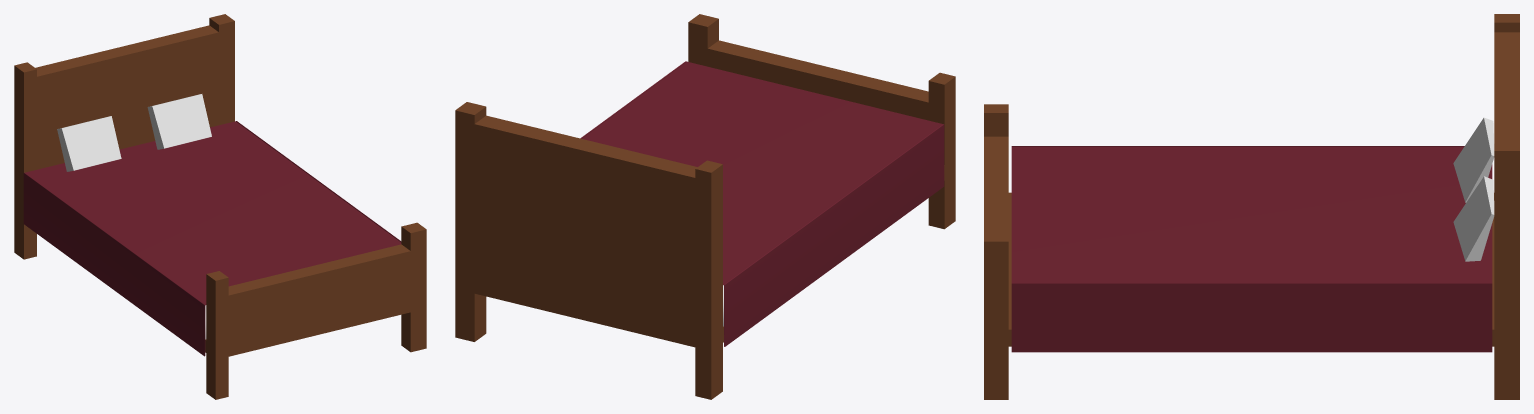
File: Lit.fbx
3 renders of one model, left to right at view 1: azimuth 30°, elevation 25°; view 2: azimuth 150°, elevation 25°; view 3: azimuth 270°, elevation 25°, orthographic. The views are drawn at different scales.
Visible parts, largest first — view 1: pCube1, pCube3, pCube4, pCube7, pCube6; view 2: pCube1, pCube3, pCube4; view 3: pCube3, pCube5, pCube1, pCube6, pCube7.
Part boxes in pixels (x1,y1,x2,y2): pCube1: [14, 14, 426, 399]; pCube3: [25, 121, 401, 305]; pCube4: [23, 173, 205, 356]; pCube7: [57, 116, 121, 171]; pCube6: [147, 94, 211, 149]; pCube1: [455, 14, 955, 399]; pCube3: [582, 61, 942, 285]; pCube4: [724, 124, 944, 346]; pCube3: [1011, 146, 1492, 283]; pCube5: [1011, 283, 1492, 352]; pCube1: [984, 14, 1519, 399]; pCube6: [1453, 176, 1494, 261]; pCube7: [1453, 117, 1494, 202].
Bounding box in the file's own units: 6.33 × 5.31 × 10.36.
